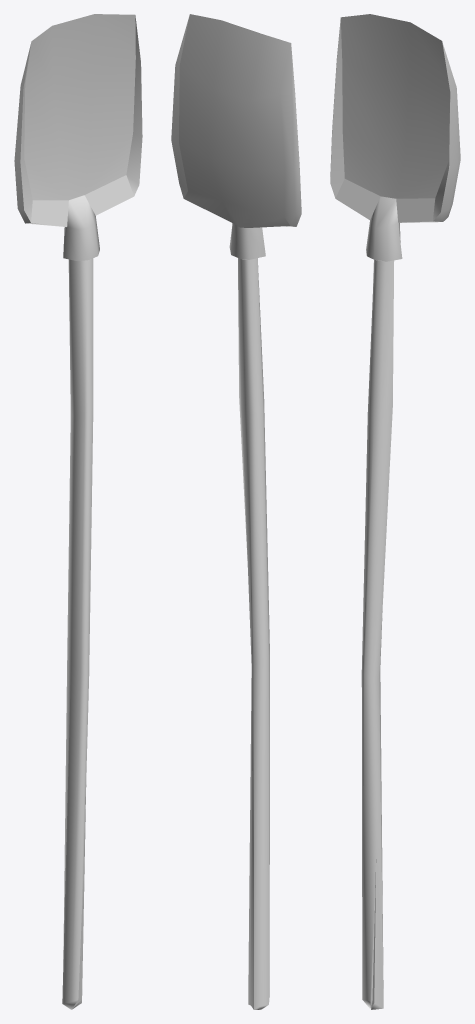
Rendered from PT_Spade_01.fbx.
3 views of the same model, side by side, from view 1: azimuth 30°, elevation 25°; view 2: azimuth 150°, elevation 25°; view 3: azimuth 330°, elevation 25° (orthographic).
Parts seen in each view (by area): view 1: PT_Spade_01; view 2: PT_Spade_01; view 3: PT_Spade_01.
Boxes of the visible parts, left/top/right/bottom form: PT_Spade_01: left=14, top=14, right=142, bottom=1009; PT_Spade_01: left=171, top=14, right=301, bottom=1009; PT_Spade_01: left=330, top=14, right=460, bottom=1009.
Bounding box in the file's own units: 25.7 × 192 × 9.58.
Materials: 1 (1 with a texture image).
